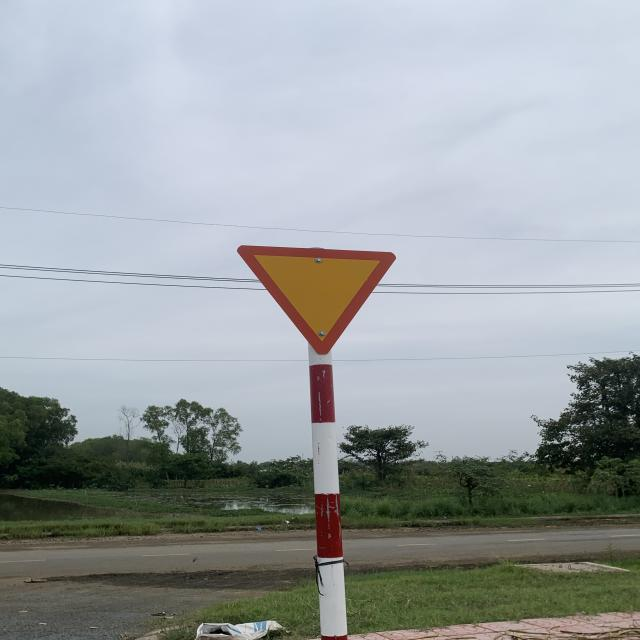Gioi_Han_Toc_Do_25: (237, 245, 398, 357)
